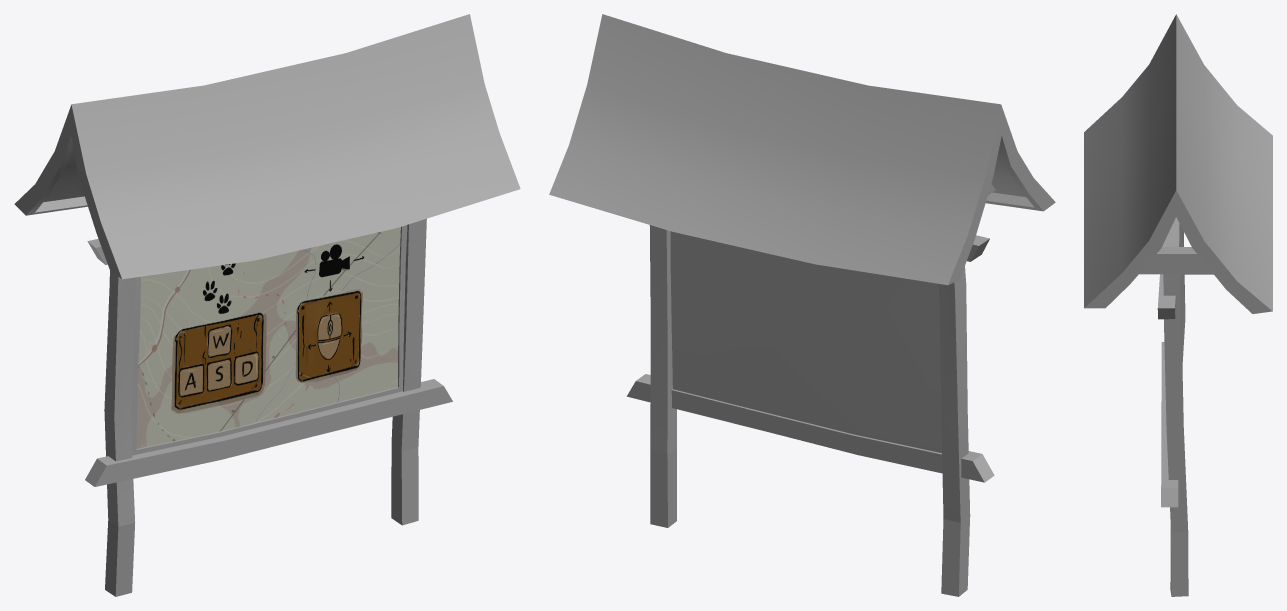
File: Post_big_Ctrls2.fbx
The picture shows the model from 3 angles, left to right: view 1: azimuth 30°, elevation 25°; view 2: azimuth 150°, elevation 25°; view 3: azimuth 270°, elevation 25°; orthographic projection. The views are drawn at different scales.
Visible parts, largest first — view 1: Post_Big; view 2: Post_Big; view 3: Post_Big.
Part boxes in pixels (x1,y1,x2,y2): Post_Big: (14,14,520,596); Post_Big: (549,14,1055,596); Post_Big: (1084,14,1272,596).
Bounding box in the file's own units: 5.46 × 6.5 × 2.55.
Materials: 2 (1 with a texture image).
